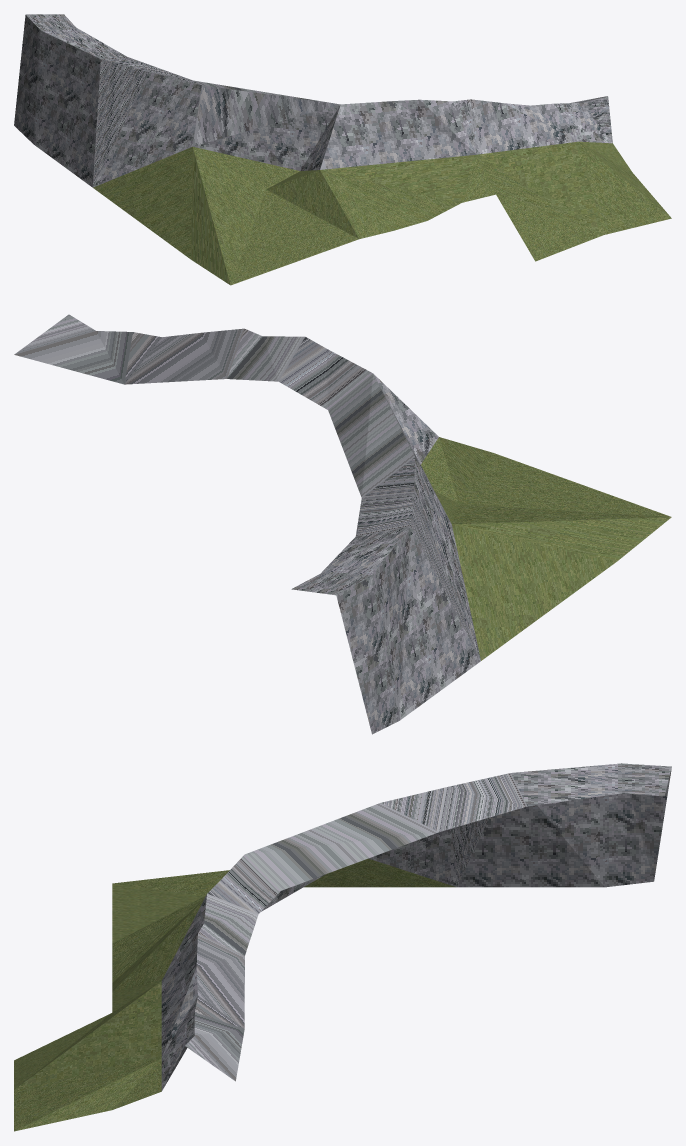
Rendered from lodseabed100.obj.
3 views of the same model, one above another, from view 1: azimuth 30°, elevation 25°; view 2: azimuth 150°, elevation 25°; view 3: azimuth 270°, elevation 25° (orthographic). The views are drawn at different scales.
Parts seen in each view (by area): view 1: lodseabed100; view 2: lodseabed100; view 3: lodseabed100.
Part boxes in pixels (box(x1,y1,x2,y2)): lodseabed100: box(14, 14, 671, 285); lodseabed100: box(14, 314, 671, 734); lodseabed100: box(14, 763, 671, 1131).
Size of the model in its own units: 308 by 79.37 by 330.
2 materials, 2 textured.
